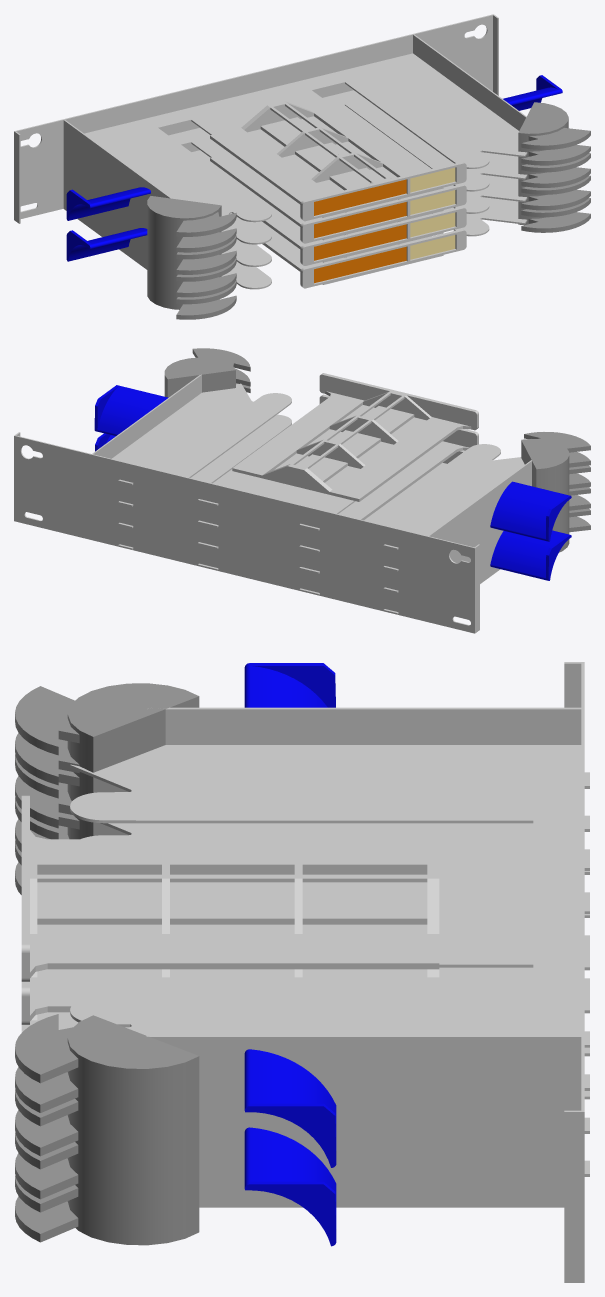
Rendered from Chassis-LISA-PATCH-2U.glb.
The picture shows the model from 3 angles, top to bottom: view 1: azimuth 30°, elevation 25°; view 2: azimuth 150°, elevation 25°; view 3: azimuth 270°, elevation 25°; orthographic projection. The views are drawn at different scales.
Parts seen in each view (by area): view 1: Geom3D_ (×27), Geom3D_drawer (×4), Geom3D_Patch cassette (×4), Geom3D (×8); view 2: Geom3D_ (×10), Geom3D_drawer (×3), Geom3D_Patch cassette (×3); view 3: Geom3D_ (×23), Geom3D_drawer (×2), Geom3D_Patch cassette (×2).
Part boxes in pixels (x1=…): Geom3D_ (×27): x1=14, y1=14, x2=590, y2=319; Geom3D_drawer (×4): x1=84, y1=53, x2=527, y2=289; Geom3D_Patch cassette (×4): x1=210, y1=101, x2=466, y2=288; Geom3D (×8): x1=314, y1=167, x2=455, y2=283; Geom3D_ (×10): x1=14, y1=348, x2=590, y2=633; Geom3D_drawer (×3): x1=112, y1=383, x2=524, y2=592; Geom3D_Patch cassette (×3): x1=232, y1=373, x2=478, y2=521; Geom3D_ (×23): x1=15, y1=662, x2=584, y2=1282; Geom3D_drawer (×2): x1=37, y1=745, x2=589, y2=1090; Geom3D_Patch cassette (×2): x1=21, y1=795, x2=439, y2=1024.
Size of the model in its own units: 0.5101 by 0.0919 by 0.2688.
